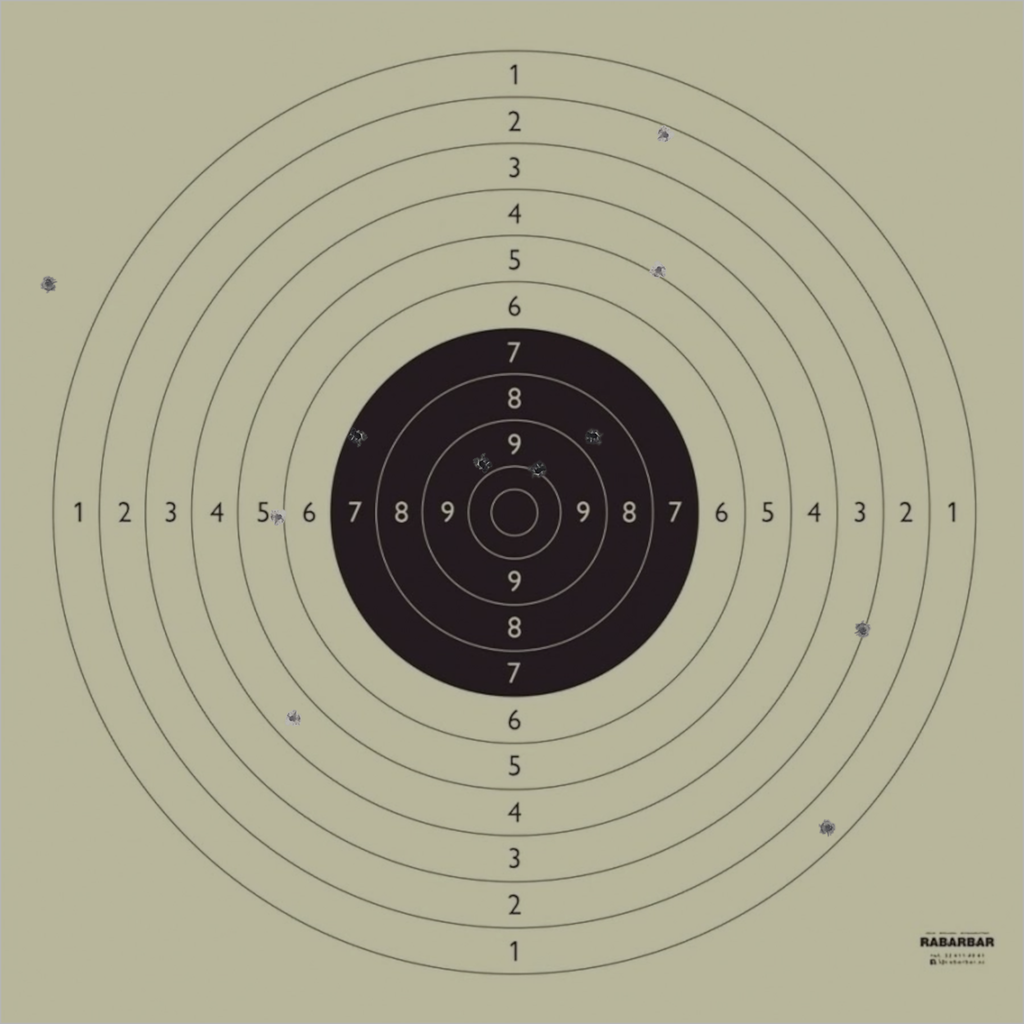0 punktow: (40, 274, 58, 293)
1 punkt: (819, 819, 837, 837)
10 punktow: (529, 461, 547, 480)
2 punkty: (656, 126, 674, 144)
3 punkty: (854, 621, 872, 640)
4 punkty: (284, 709, 302, 728)
5 punktow: (650, 261, 668, 279)
6 punktow: (269, 508, 288, 526)
7 punktow: (348, 427, 366, 445)
8 punktow: (585, 427, 603, 445)
9 punktow: (473, 455, 492, 473)
